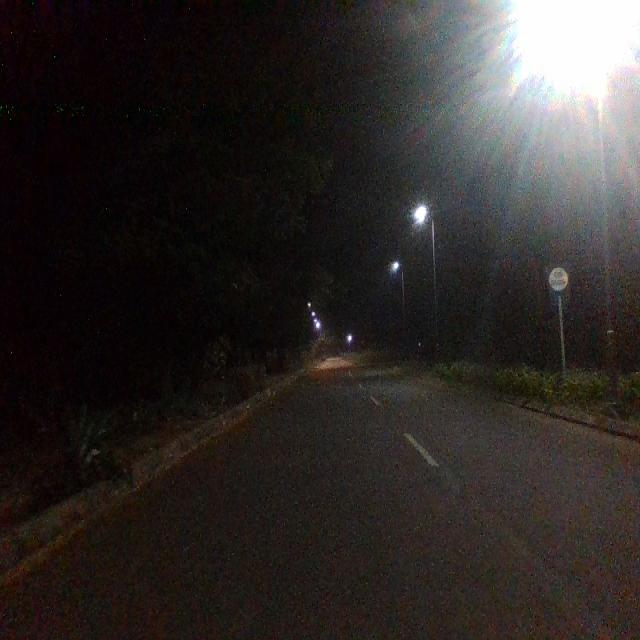lane: (0, 365, 561, 640)
